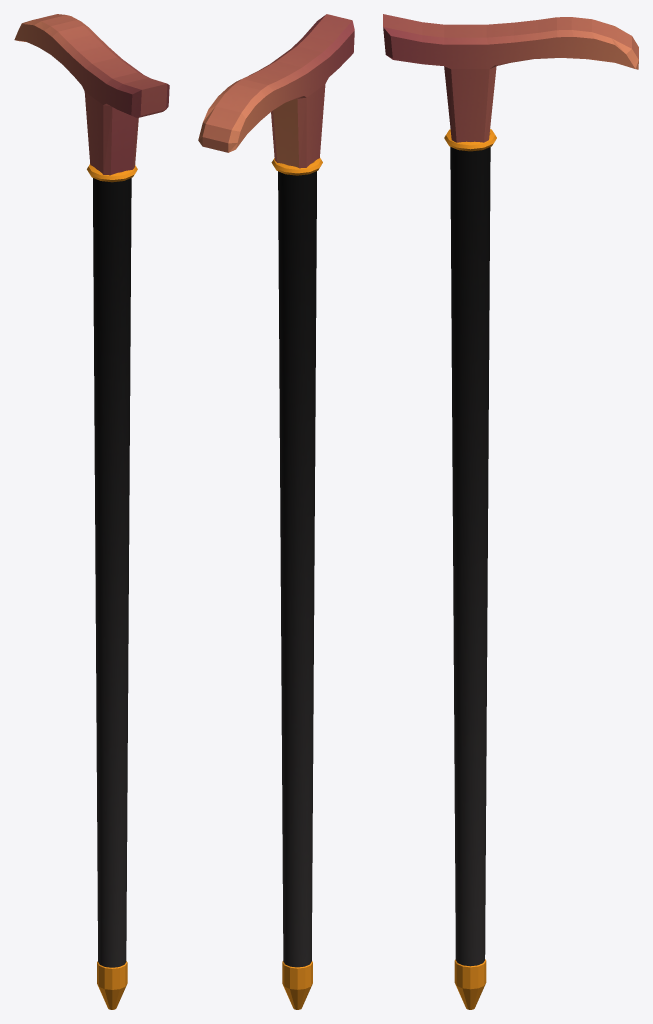
File: Walking Stick.FBX
The picture shows the model from 3 angles, left to right: view 1: azimuth 30°, elevation 25°; view 2: azimuth 150°, elevation 25°; view 3: azimuth 270°, elevation 25°; orthographic projection. The views are drawn at different scales.
Parts seen in each view (by area): view 1: Walking Stick; view 2: Walking Stick; view 3: Walking Stick.
Part boxes in pixels (box(x1,y1,x2,y2)): Walking Stick: box(14, 14, 169, 1009); Walking Stick: box(198, 14, 354, 1009); Walking Stick: box(383, 14, 638, 1009).
Bounding box in the file's own units: 5.01 × 103 × 24.15.
